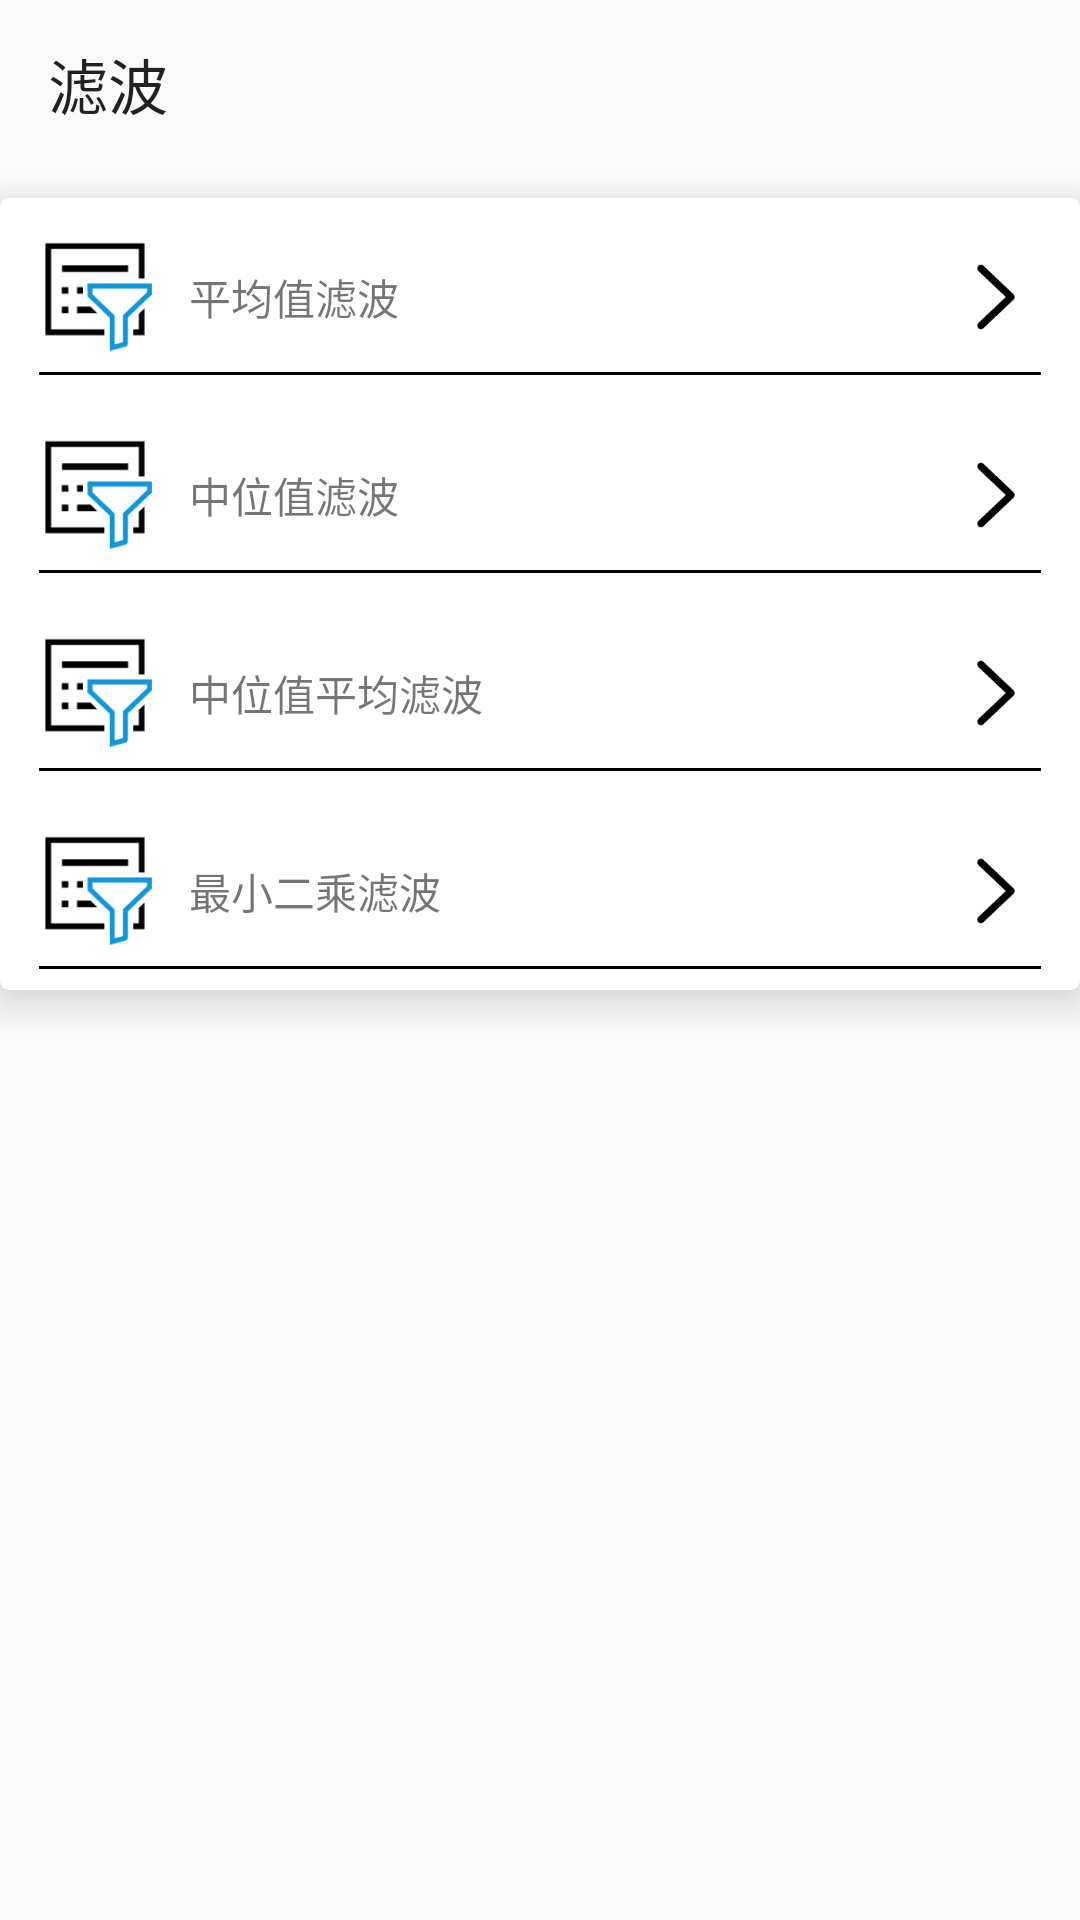

Named icons in this screenshot (1080*1920) and their bounding boxes, (x1, y1, x2, y2):
filter: (45, 243, 152, 352), (45, 441, 152, 550), (45, 639, 152, 748), (45, 837, 152, 946)
